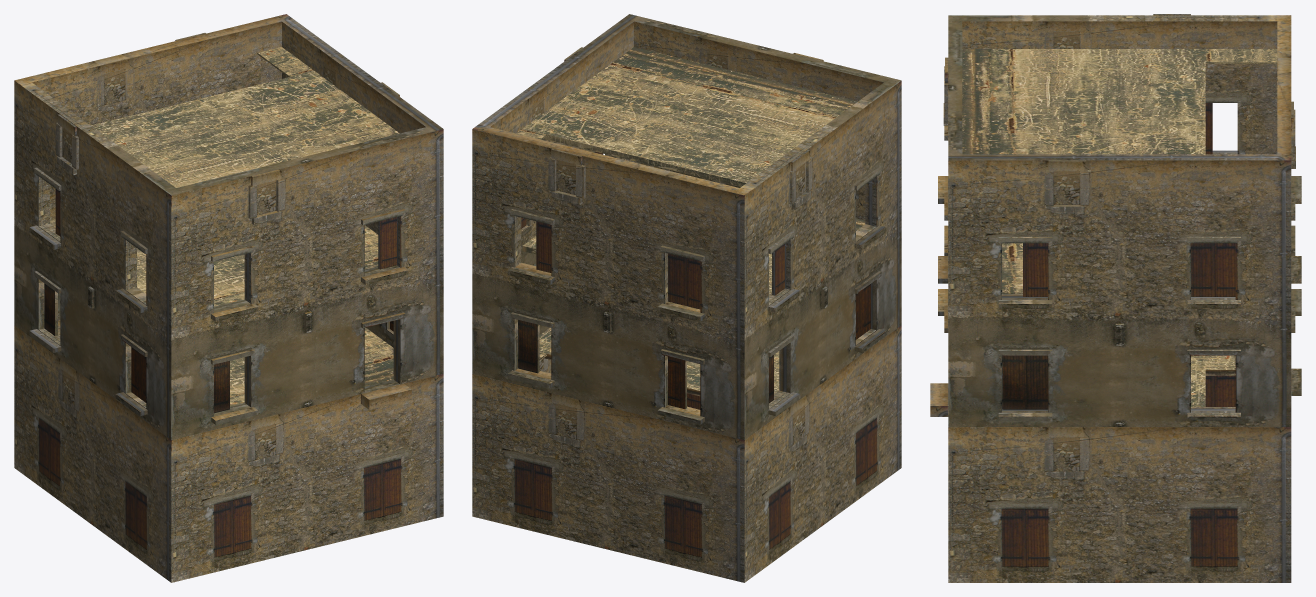
The model's file is BagBuilding18_140.fbx.
The picture shows the model from 3 angles, left to right: view 1: azimuth 30°, elevation 25°; view 2: azimuth 150°, elevation 25°; view 3: azimuth 270°, elevation 25°; orthographic projection. The views are drawn at different scales.
Parts seen in each view (by area): view 1: main140, floors140; view 2: main140, floors140; view 3: main140, floors140.
Part boxes in pixels (x1,y1,x2,y2): main140: (14, 14, 443, 582); floors140: (50, 47, 399, 406); main140: (472, 14, 901, 582); floors140: (516, 47, 865, 396); main140: (930, 14, 1301, 582); floors140: (962, 49, 1277, 406).
Size of the model in its own units: 17.75 by 22.81 by 18.16.
